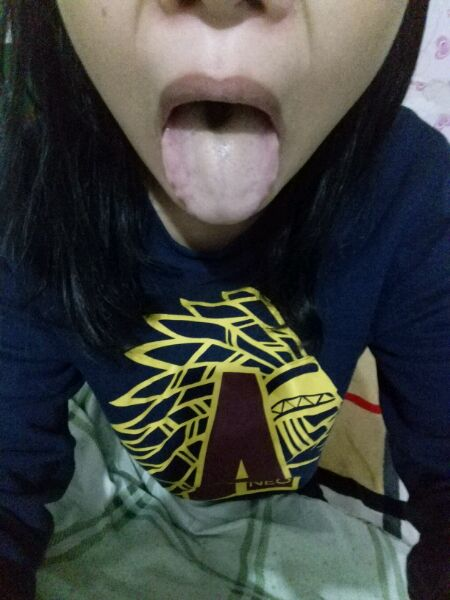chihenshe: (164, 166, 188, 211), (255, 175, 278, 210)
huangtaishe: (161, 102, 279, 225)
shenquao: (193, 103, 242, 135)
